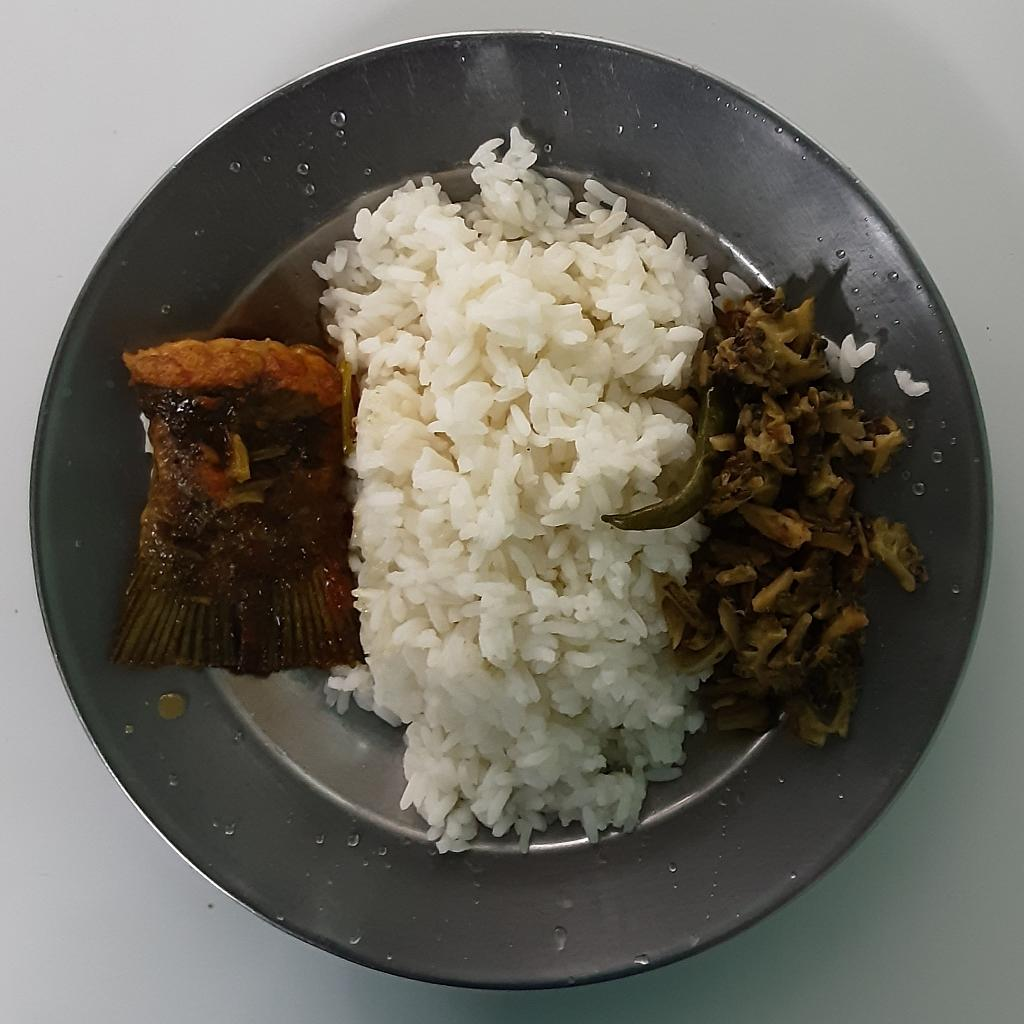fish: (118, 335, 366, 676)
korola-vaji: (599, 287, 932, 744)
rice: (312, 127, 755, 858)
